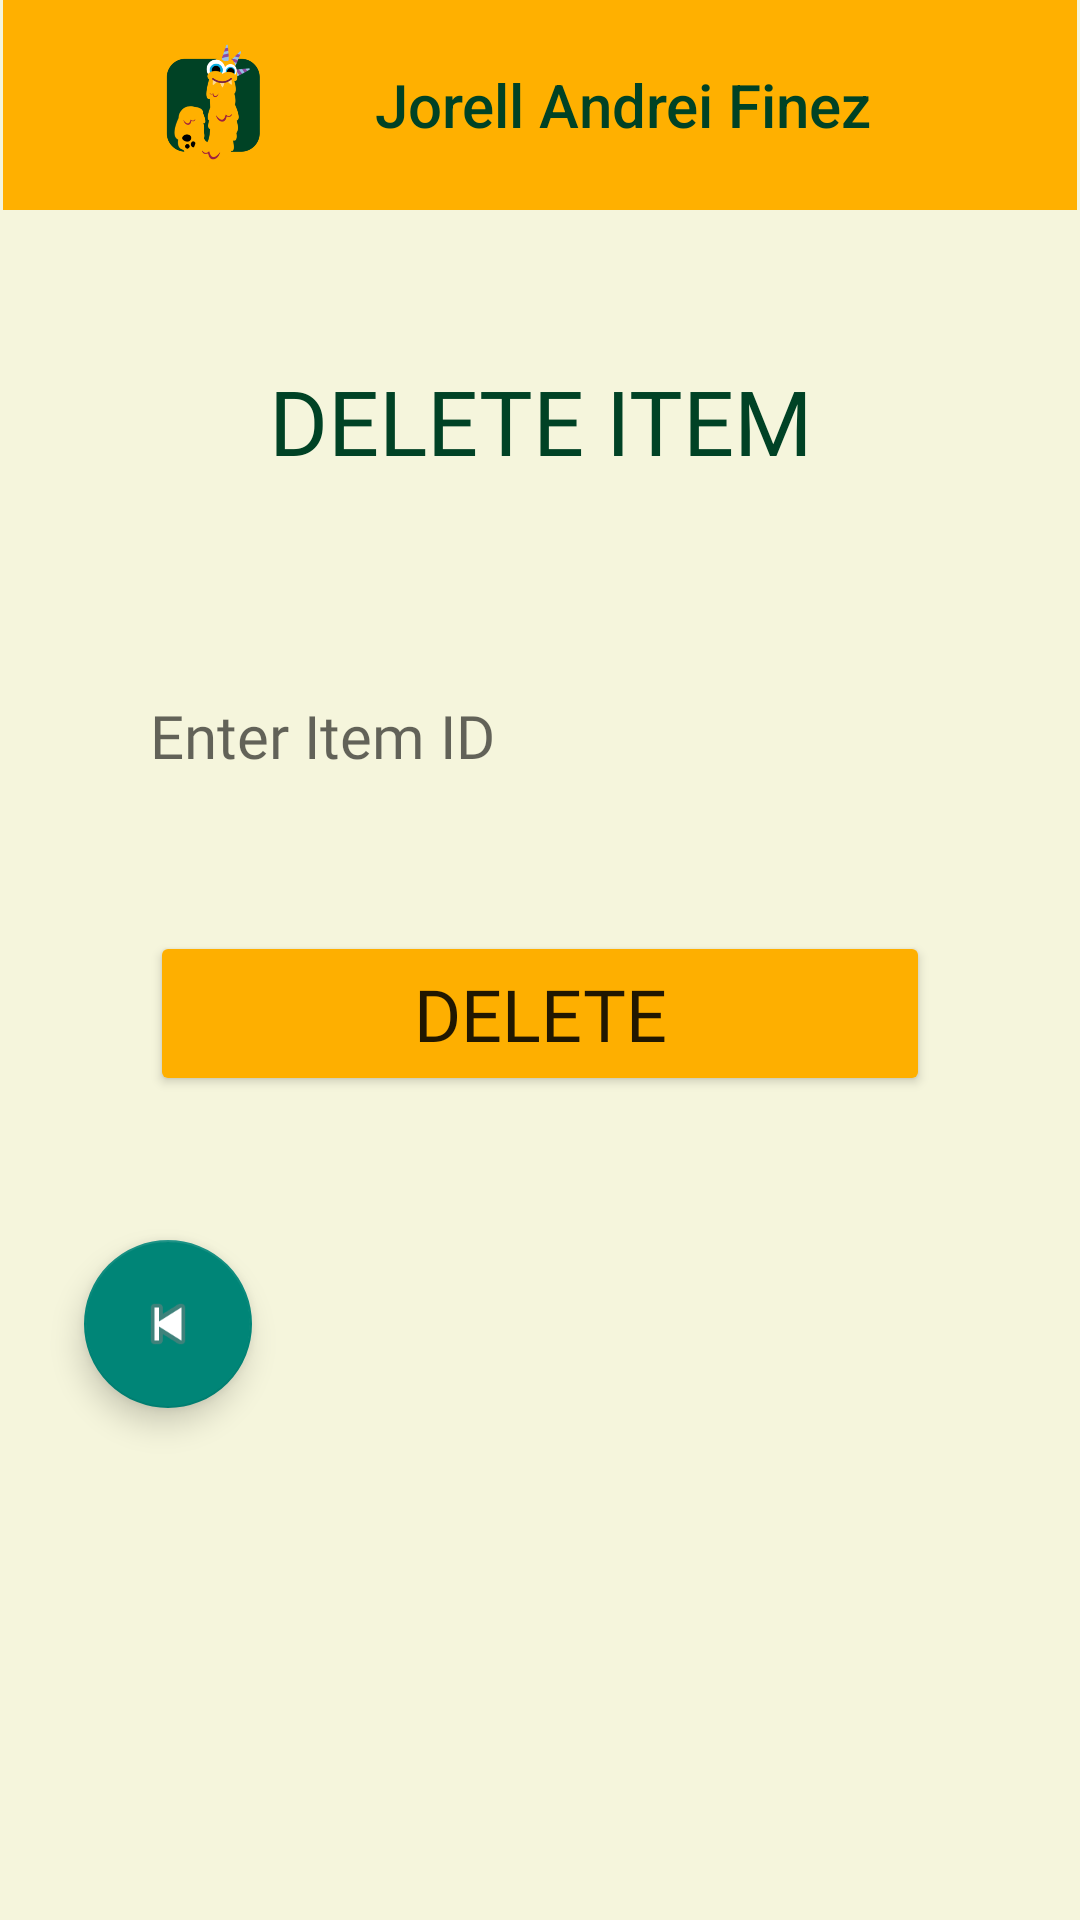

Locate icon controls on the screen. Image size 1080w x 1920h, boxes as box=[x1, y1, x2, y2].
previous: box=[84, 1240, 252, 1408]
